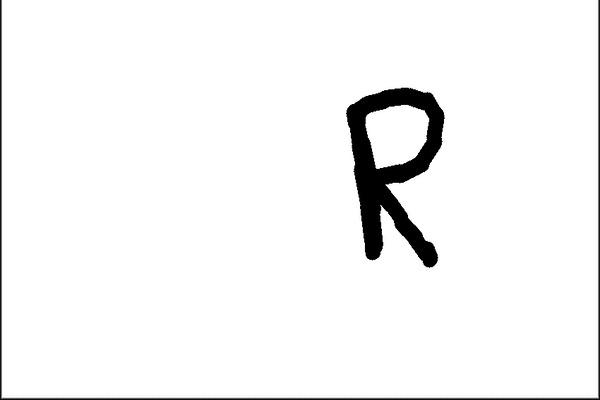R: (343, 77, 462, 278)
